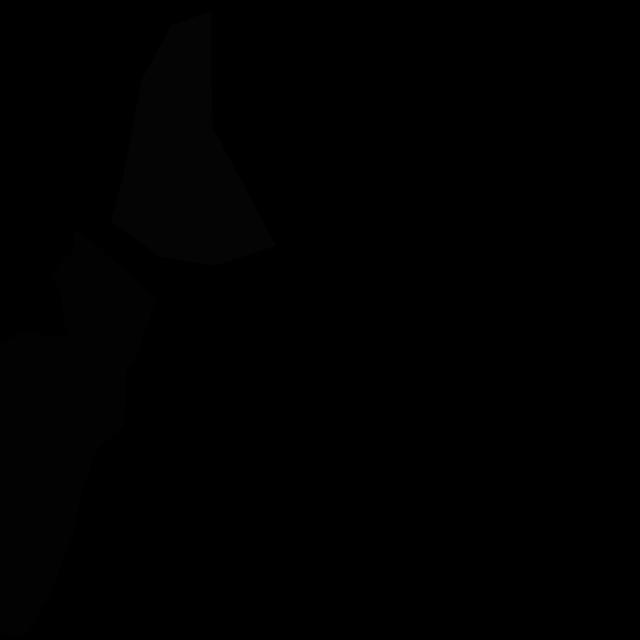cardboard: (0, 332, 117, 636), (51, 231, 157, 432)
soft_plastic: (111, 11, 276, 266)
